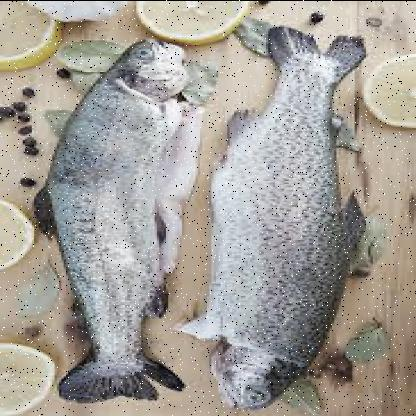fish: (209, 31, 365, 413), (53, 39, 203, 403)
